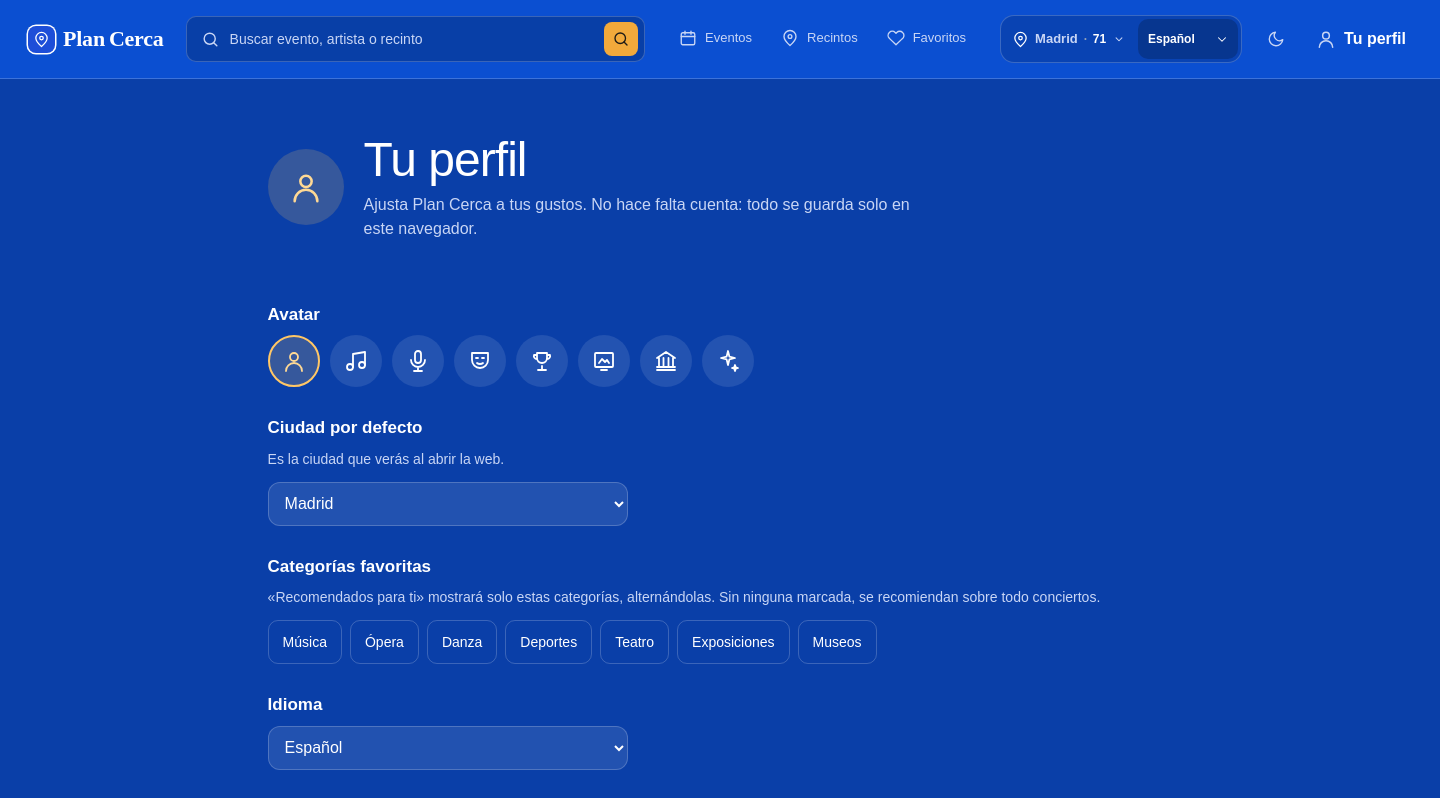
Profile page › remembers the default city and the language from the same page
This screenshot has width=1440, height=798.
Select "Bilbao" in the dropdown labelled "Ciudad por defecto" at (448, 504), box 268,482 -> 628,526
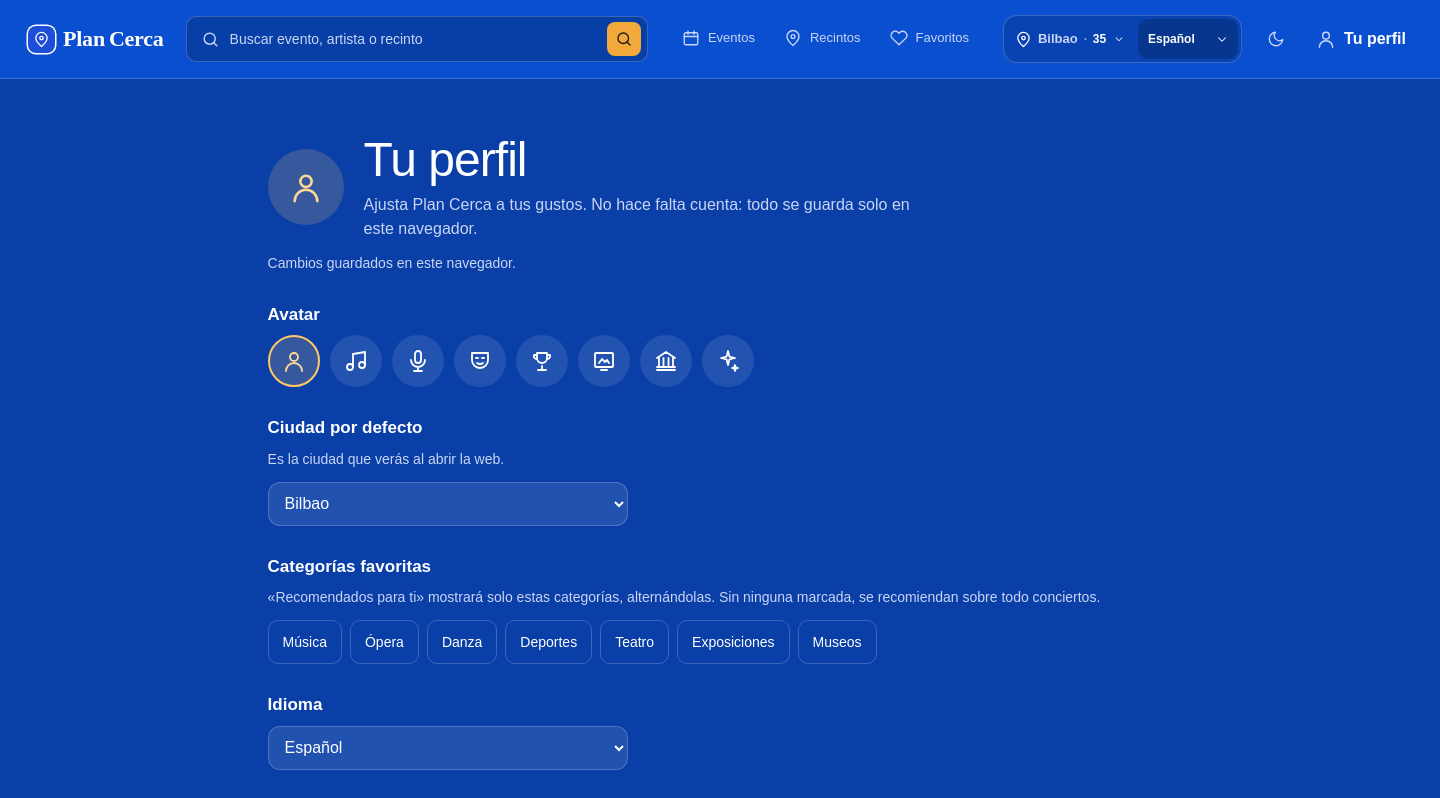
expect the heading "Tu perfil" is shown: met, box 364,133 -> 527,186
expect the text "Bilbao" is shown: met, box 1038,29 -> 1078,49
Select "English" in the dropdown labelled "Idioma" at (448, 748), box 268,726 -> 628,770
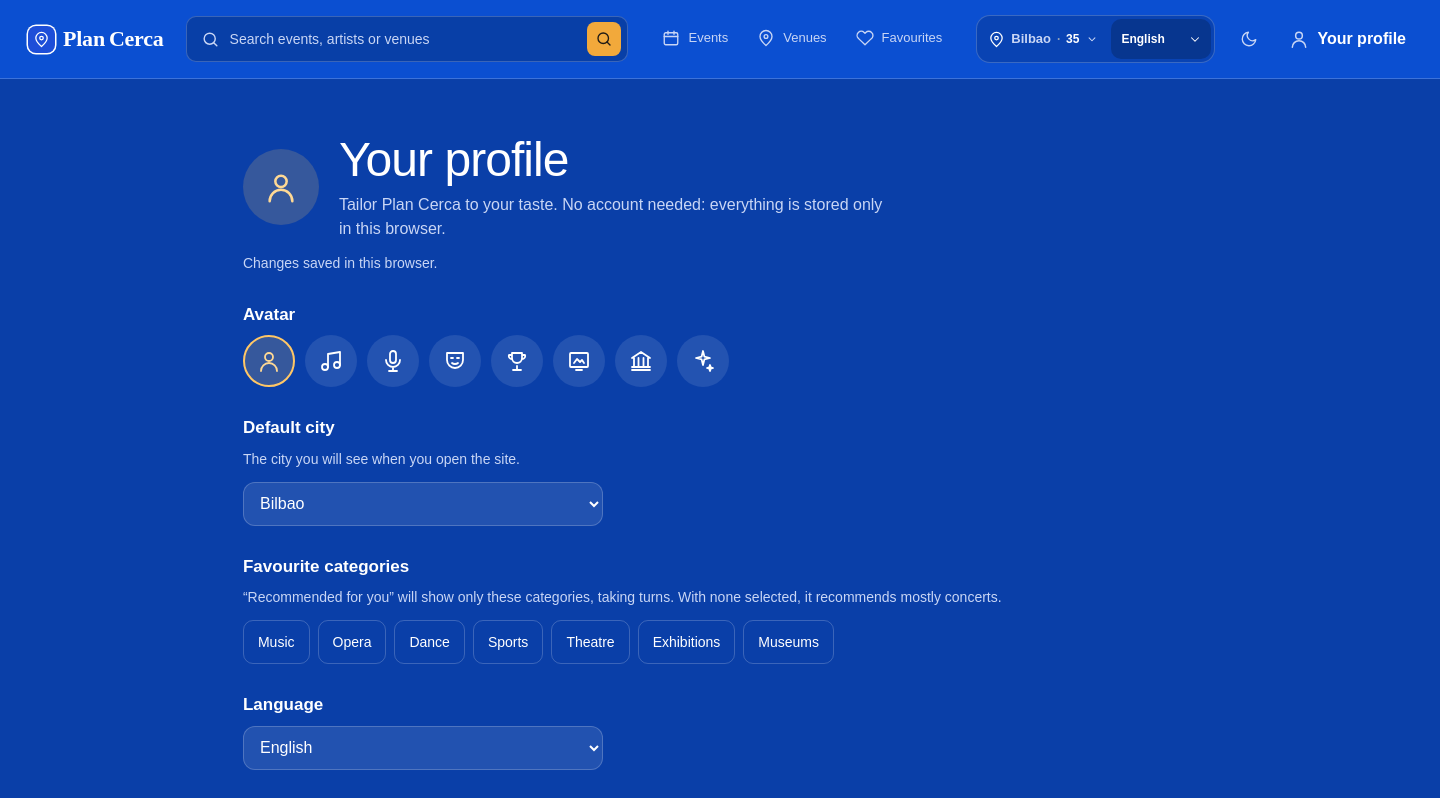
expect the heading "Your profile" is shown: met, box 339,133 -> 568,186
